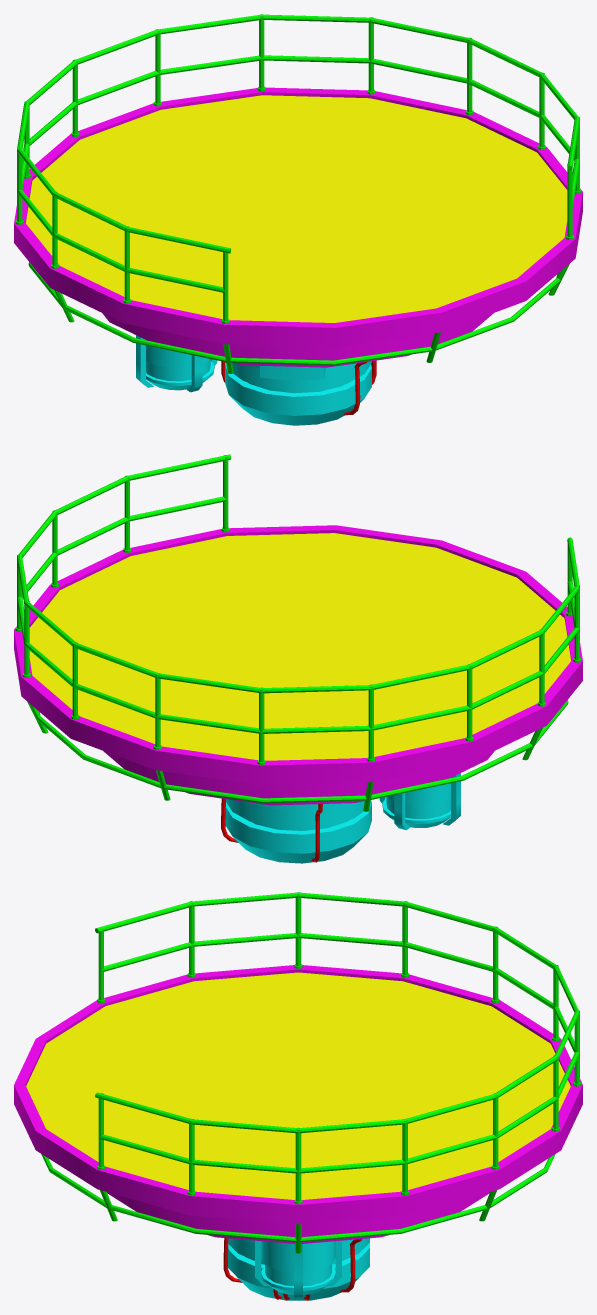
File: floating_platform02_new.fbx
3 renders of one model, top to bottom at view 1: azimuth 30°, elevation 25°; view 2: azimuth 150°, elevation 25°; view 3: azimuth 270°, elevation 25°, orthographic.
Parts seen in each view (by area): view 1: pCylinder1, pPipe1, pCylinder16, pTorus1, pTorus4, pCylinder18, pTorus5, pCylinder38; view 2: pCylinder1, pPipe1, pCylinder16, pTorus1, pTorus4, pCylinder18, pTorus5, pCylinder38; view 3: pCylinder1, pPipe1, pTorus1, pTorus4, pCylinder18, pCylinder88, pTorus5, pCylinder16.
Boxes of the visible parts, x1,y1,x2,y2 form: pCylinder1: (26, 95, 567, 322); pPipe1: (14, 87, 582, 347); pCylinder16: (225, 361, 371, 425); pTorus1: (17, 14, 579, 253); pTorus4: (17, 55, 579, 292); pCylinder18: (102, 313, 493, 367); pTorus5: (28, 262, 560, 365); pCylinder38: (146, 340, 214, 390); pCylinder1: (29, 533, 570, 760); pPipe1: (14, 525, 582, 785); pCylinder16: (225, 799, 371, 863); pTorus1: (17, 454, 579, 693); pTorus4: (17, 496, 579, 733); pCylinder18: (103, 751, 494, 805); pTorus5: (36, 700, 568, 803); pCylinder38: (382, 778, 450, 827); pCylinder1: (26, 972, 570, 1199); pPipe1: (14, 965, 582, 1224); pTorus1: (95, 892, 579, 1133); pTorus4: (99, 933, 579, 1173); pCylinder18: (107, 1192, 489, 1243); pCylinder88: (261, 1241, 335, 1294); pTorus5: (41, 1154, 555, 1242); pCylinder16: (228, 1238, 369, 1300).
Size of the model in its own units: 626 by 323 by 626.
